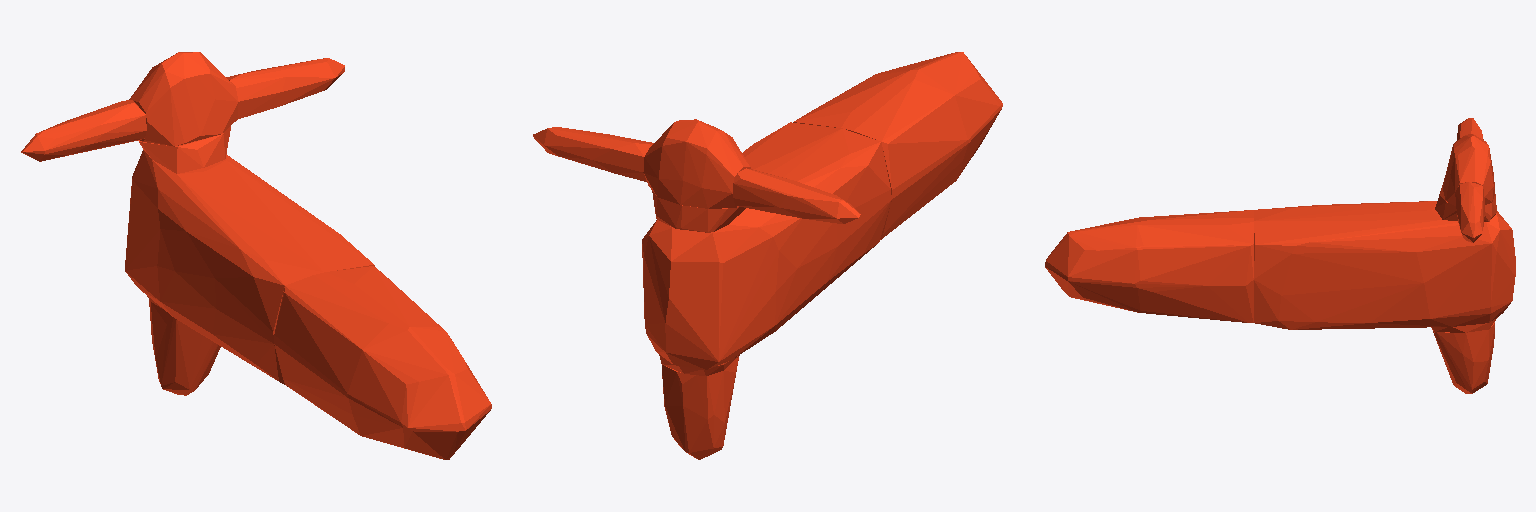
URDF robot description (blob135):
<robot name="blob135">
  <link name="random_obj_135">
    <contact>
      <lateral_friction value="1.0"/>
      <rolling_friction value="0.0"/>
      <inertia_scaling value="3.0"/>
      <contact_cfm value="0.0"/>
      <contact_erp value="1.0"/>
    </contact>
    <inertial>
      <origin rpy="0 0 0" xyz="0 0 0"/>
      <mass value="0.1"/>
      <inertia ixx="1" ixy="0" ixz="0" iyy="1" iyz="0" izz="0"/>
    </inertial>
    <visual>
      <origin rpy="0 0 0" xyz="0 0 0"/>
      <geometry>
        <mesh filename="135.obj" scale="0.015 0.015 0.015"/>
      </geometry>
      <material name="blockmat">
        <color rgba="0.98 0.33 0.17 1"/>
      </material>
    </visual>
    <collision>
      <origin rpy="0 0 0" xyz="0 0 0"/>
      <geometry>
        <mesh filename="135.obj" scale="0.015 0.015 0.015"/>
      </geometry>
    </collision>
  </link>
</robot>

--- Facts derived from the render (not from the file) ---
Views: 3 orthographic renders of the robot side by side, from view 1: azimuth 30°, elevation 25°; view 2: azimuth 150°, elevation 25°; view 3: azimuth 270°, elevation 25°.
Model blob135 with 1 links and 0 joints (none), rooted at random_obj_135, posed every joint at zero.
Links seen in each view (by area): view 1: random_obj_135; view 2: random_obj_135; view 3: random_obj_135.
Link boxes in pixels (box(x1,y1,x2,y2)): random_obj_135: box(21, 52, 491, 459); random_obj_135: box(533, 52, 1002, 459); random_obj_135: box(1045, 118, 1515, 393).
Size in the robot's own frame: 0.0908 by 0.15 by 0.0908 metres.
Meshes: 1 distinct files referenced, 1 mesh visuals loaded (1 OBJ).